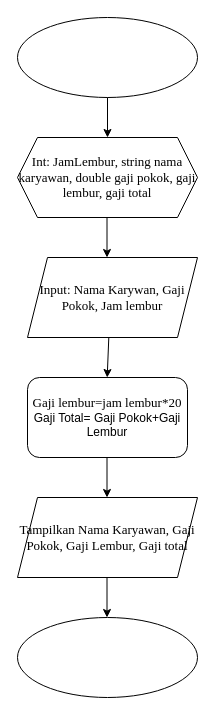
Some shapes in this 215 by 715 pixel diagram are drawn without their labels. The shapes that lost their labels are listed below. From the top down, each one's centre as x and y in pixels, then its label:
the point at 107,57: Mulai
the point at 107,657: Selesai
